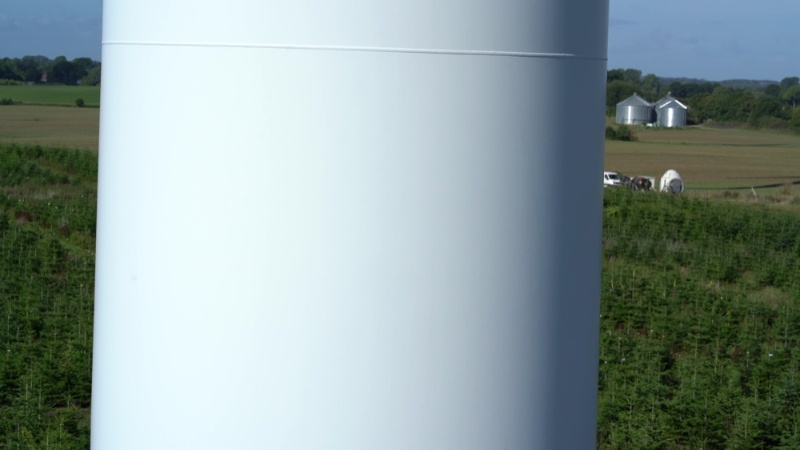weldseam: (101, 36, 611, 68)
